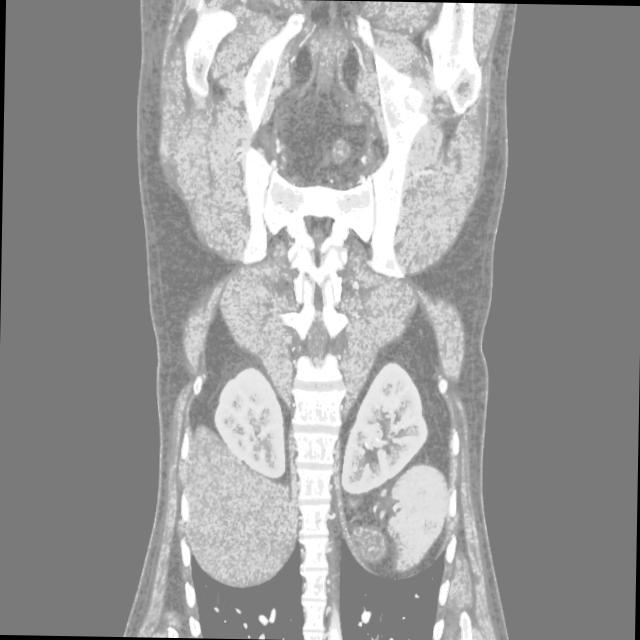NORMAL: (125, 91, 536, 561)
